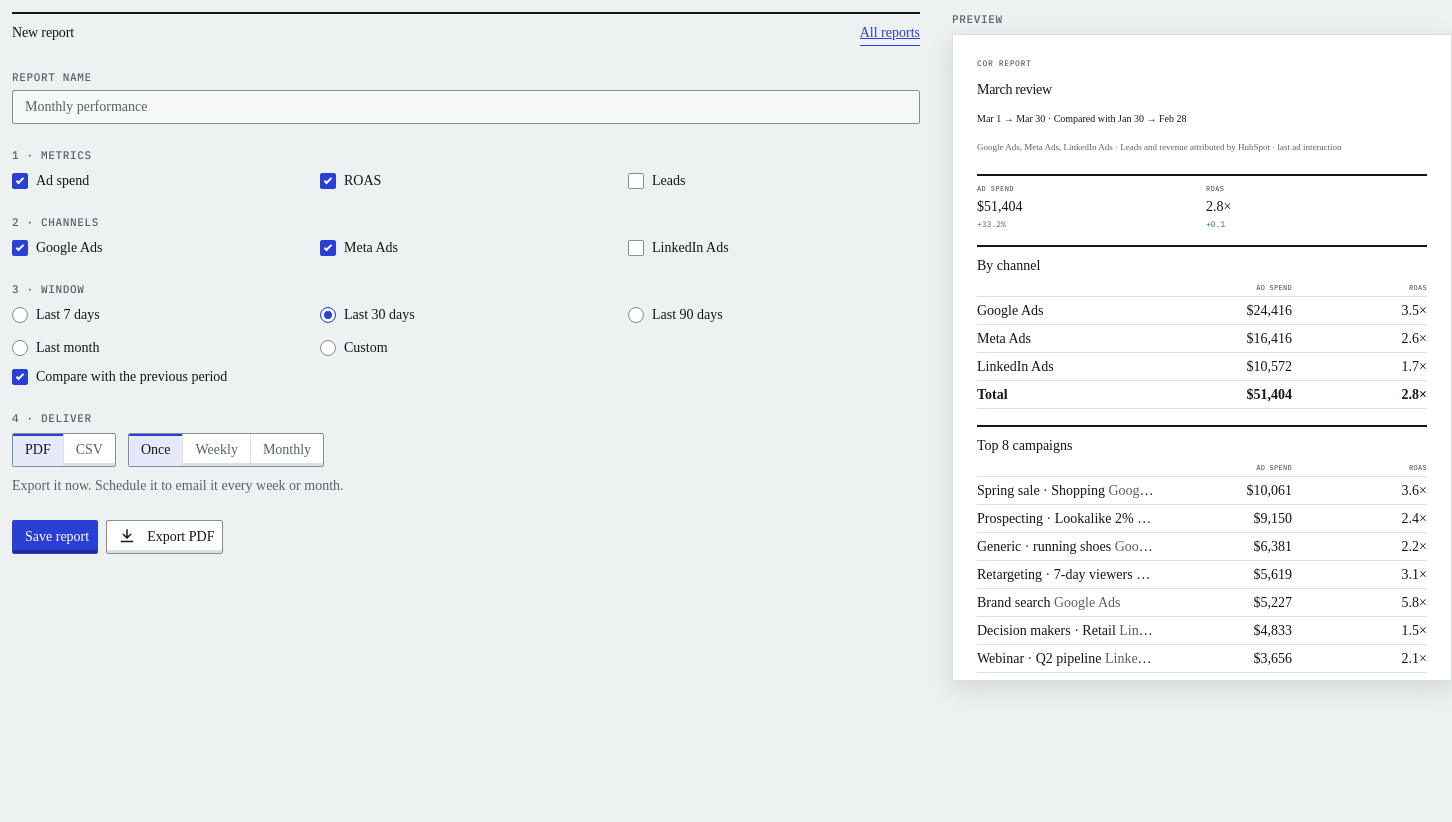
Scenario: ReportComposer › a failed export keeps everything and offers Retry
Click the button "Export PDF".
click(165, 537)  # box [106,520,224,554]
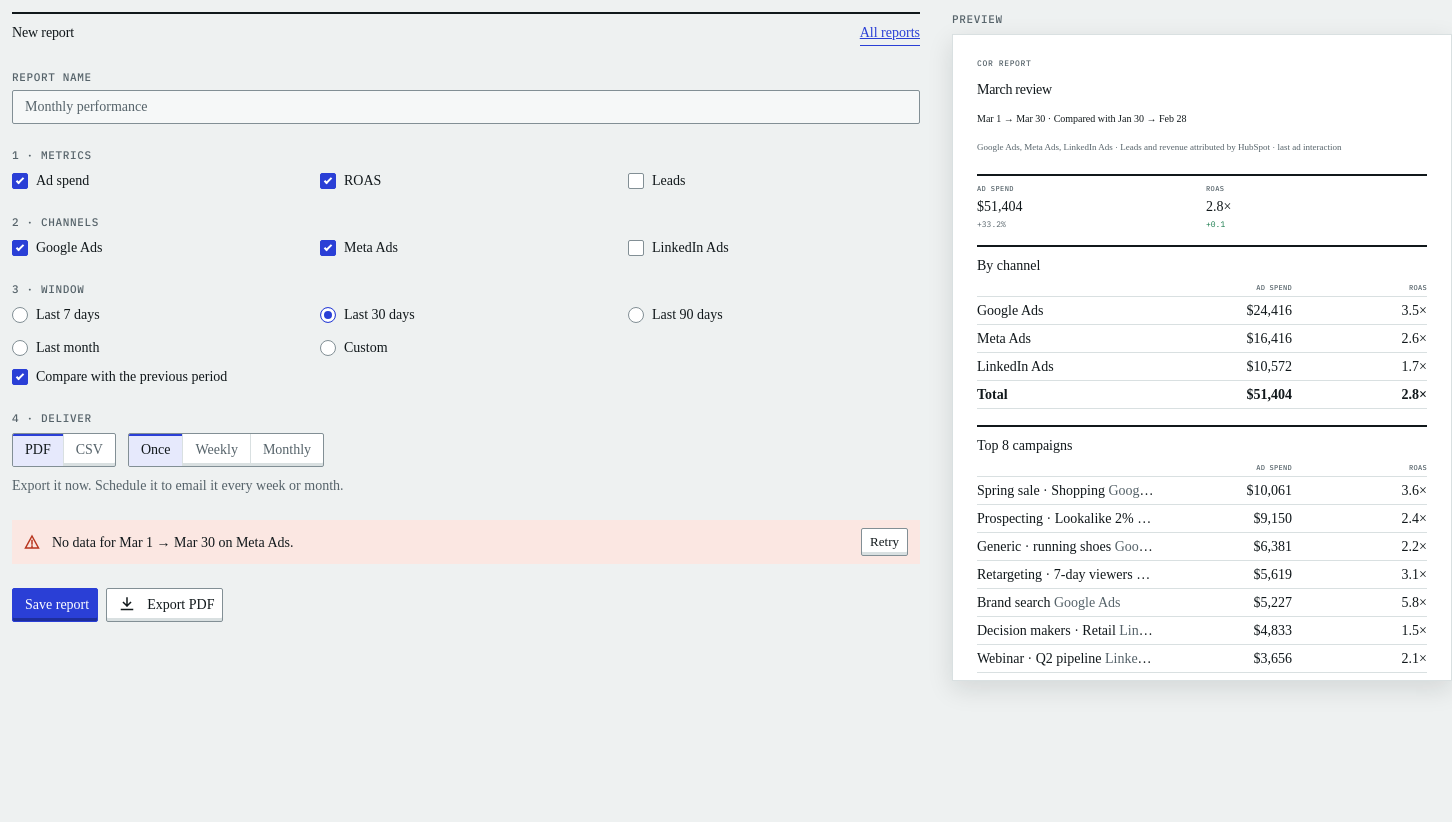
Now the text "No data for Mar 1 → Mar 30 on Meta Ads." is shown, box [52,534,294,550]
Now the button "Retry" is shown, box [861,528,908,556]
